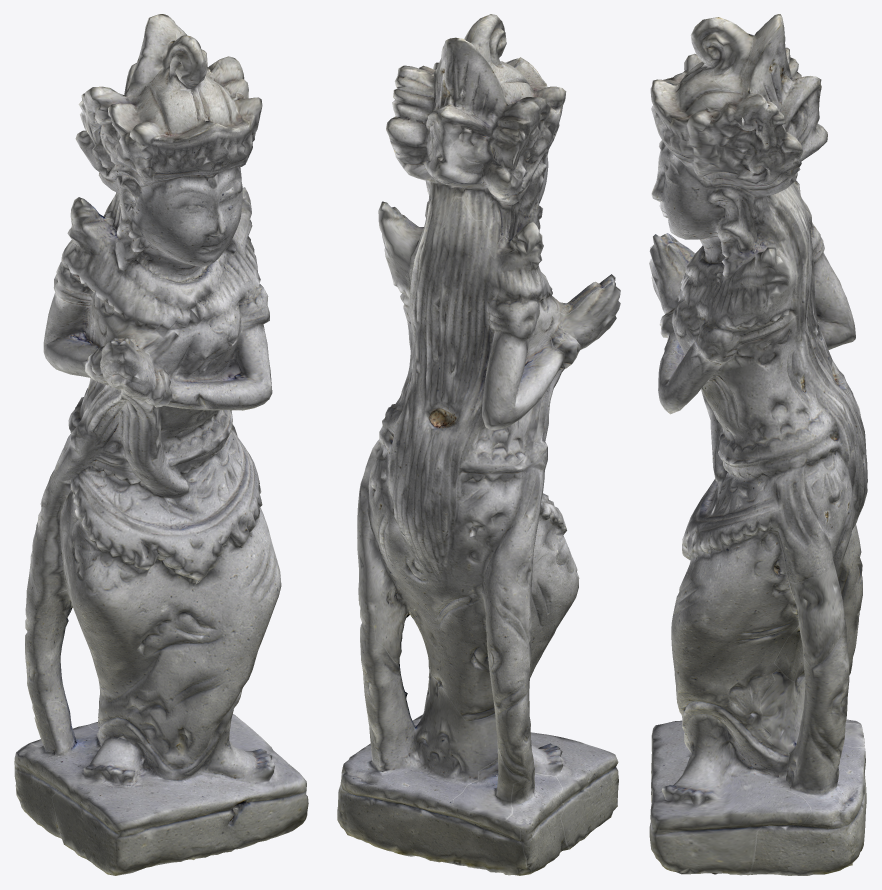
Rendered from thai_female_sandstone_sculpture_free.glb.
3 renders of one model, left to right at view 1: azimuth 30°, elevation 25°; view 2: azimuth 150°, elevation 25°; view 3: azimuth 270°, elevation 25°, orthographic. The views are drawn at different scales.
Visible parts, largest first — view 1: Thai_Female_Sandstone_v2.2; view 2: Thai_Female_Sandstone_v2.2; view 3: Thai_Female_Sandstone_v2.2.
Part boxes in pixels (<box>): Thai_Female_Sandstone_v2.2: <box>14,14,308,875</box>; Thai_Female_Sandstone_v2.2: <box>337,14,620,875</box>; Thai_Female_Sandstone_v2.2: <box>649,14,867,875</box>.
Bounding box in the file's own units: 0.1635 × 0.6172 × 0.1496.
Materials: 1 (1 with a texture image).
